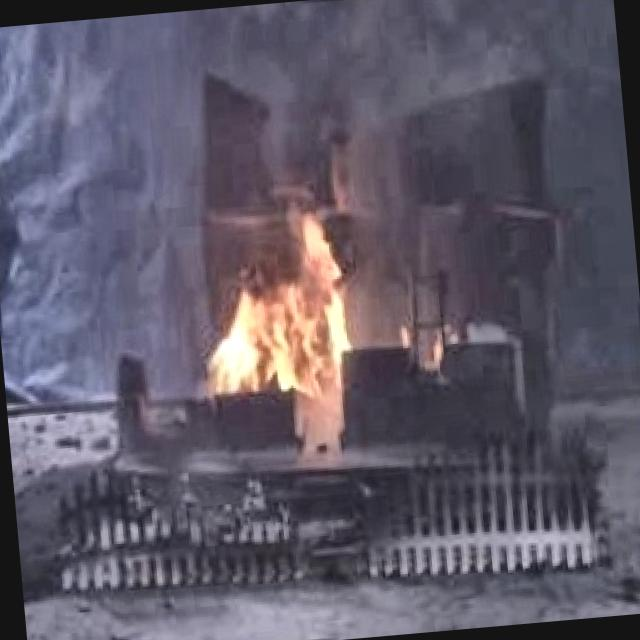fire: (170, 172, 400, 429)
